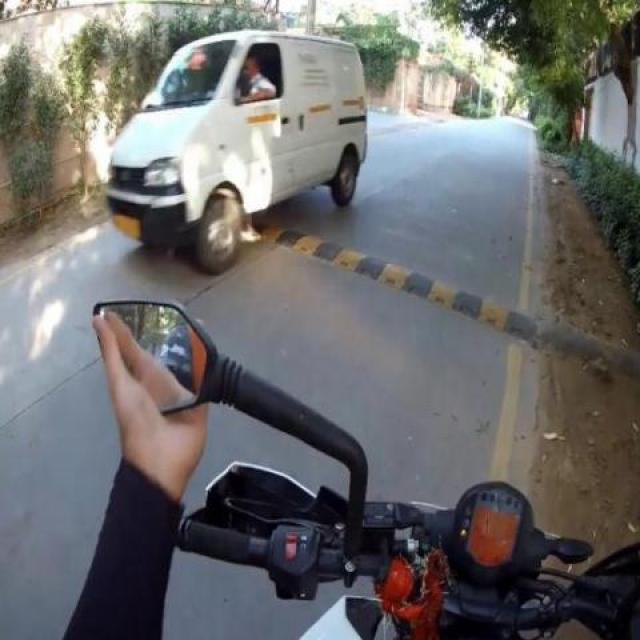Speed Bump: (280, 226, 543, 342)
